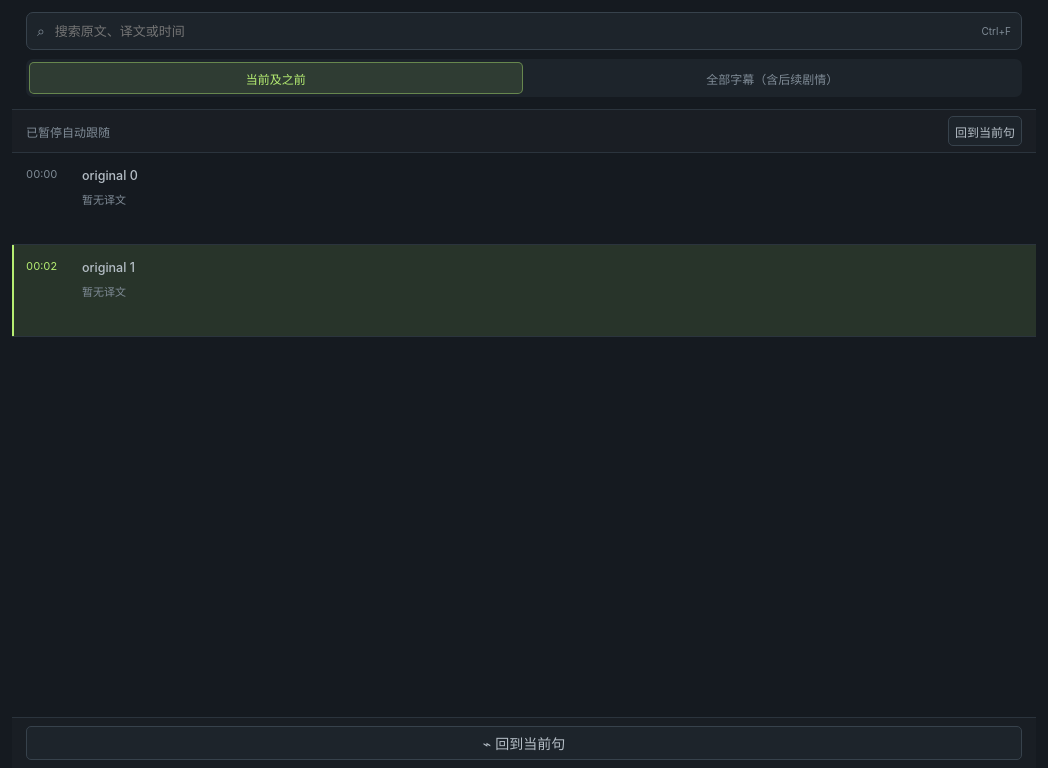
Test: SubtitleTranscriptPanel › pauses and resumes automatic following after a manual scroll intent
This screenshot has width=1048, height=768.
Expected: the text "已暂停自动跟随" is shown, [26, 122, 110, 140]
Click the button "回到当前句" at (985, 131), box [948, 116, 1022, 146]
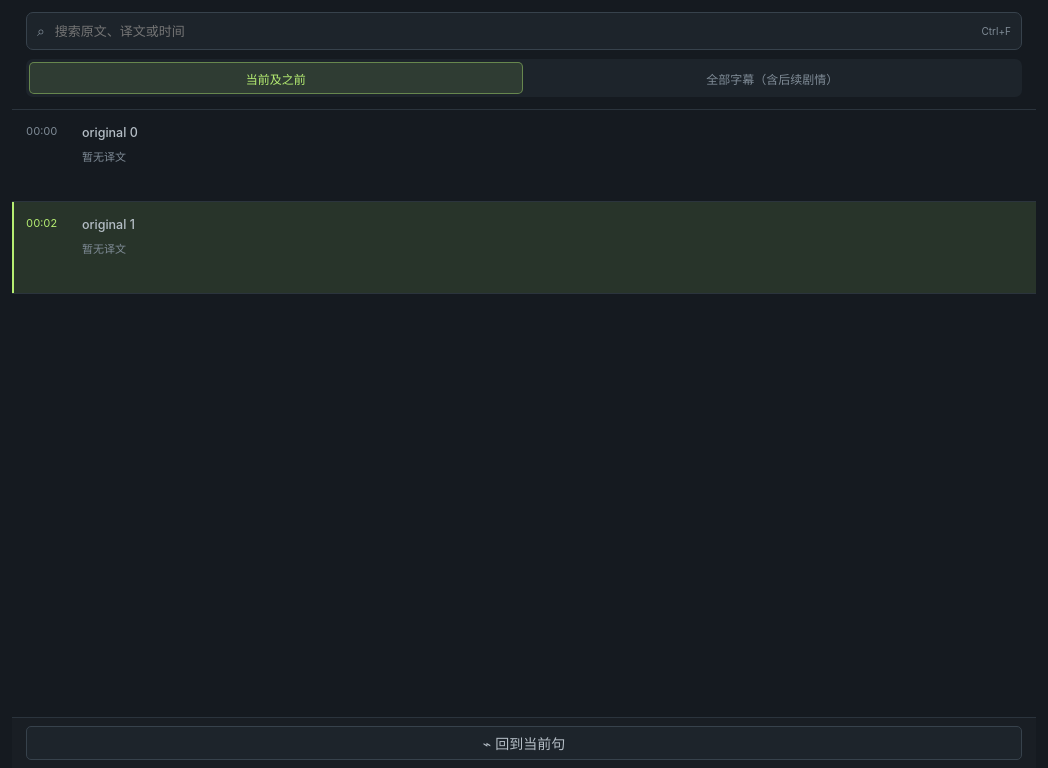
Expected: the text "已暂停自动跟随" is gone
